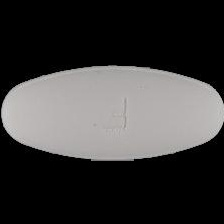63739-528: (0, 0, 224, 224)
